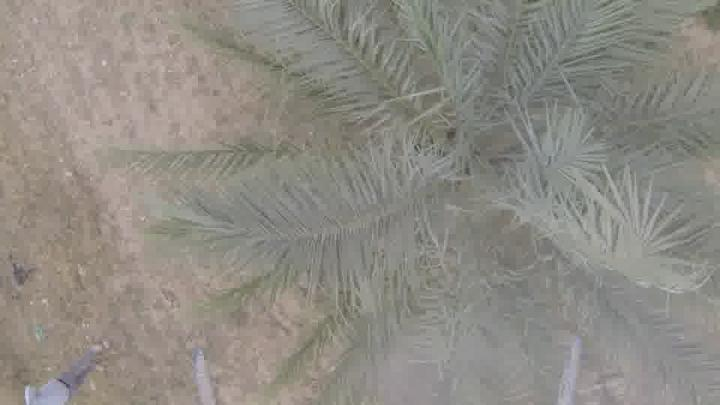Date-Palm-Crown: (280, 13, 656, 352)
